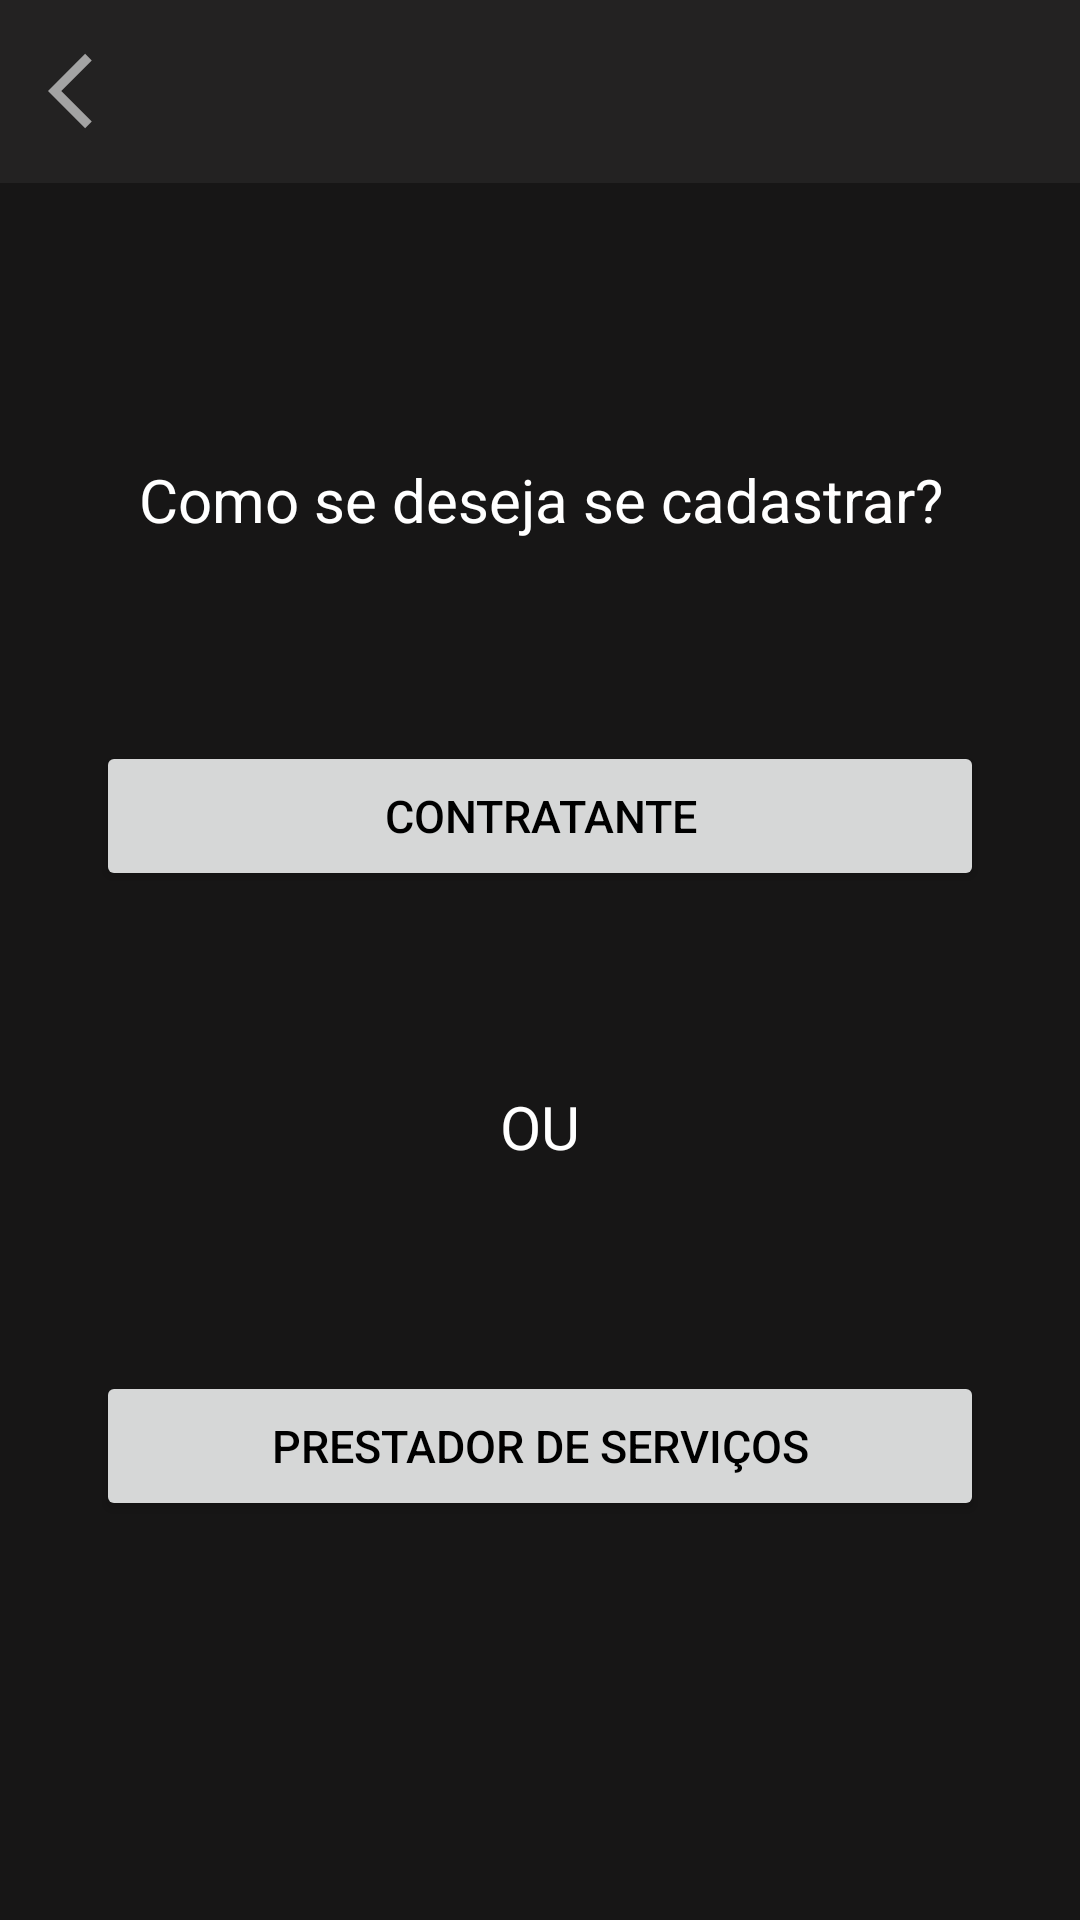

Where icons sit on this 1080w x 1920h app screen, as bbox(x1, y1, x2, y2):
voltar: bbox(48, 54, 92, 128)
